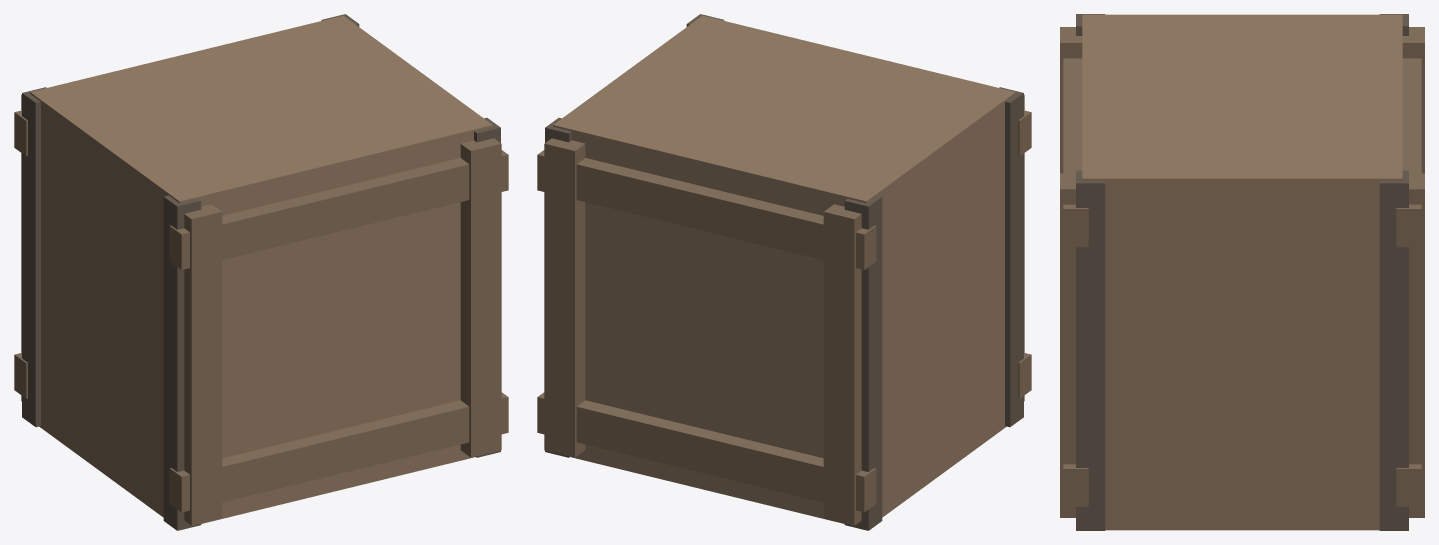
The model's file is wooden_crate.glb.
The picture shows the model from 3 angles, left to right: view 1: azimuth 30°, elevation 25°; view 2: azimuth 150°, elevation 25°; view 3: azimuth 270°, elevation 25°; orthographic projection. The views are drawn at different scales.
Visible parts, largest first — view 1: body, front_upright_1_0.41, front_rail_1_0.8, front_rail_1_0.12, front_upright_1_-0.41, corner_-0.44_0.36, corner_-0.44_-0.36; view 2: body, front_upright_-1_0.41, front_rail_-1_0.8, front_rail_-1_0.12, front_upright_-1_-0.41, corner_-0.44_-0.36, corner_-0.44_0.36; view 3: body, corner_0.44_-0.36, corner_0.44_0.36, front_upright_-1_0.41, front_upright_1_0.41, front_rail_-1_0.8, front_rail_1_0.8, front_upright_-1_-0.41, front_upright_1_-0.41, front_rail_-1_0.12, front_rail_1_0.12.
Boxes of the visible parts, left/top/right/bottom form: body: left=30, top=15, right=492, bottom=523; front_upright_1_0.41: left=460, top=138, right=501, bottom=457; front_rail_1_0.8: left=169, top=150, right=508, bottom=269; front_rail_1_0.12: left=169, top=392, right=508, bottom=512; front_upright_1_-0.41: left=184, top=204, right=222, bottom=525; corner_-0.44_0.36: left=163, top=195, right=201, bottom=530; corner_-0.44_-0.36: left=22, top=87, right=46, bottom=427; body: left=553, top=15, right=1015, bottom=523; front_upright_-1_0.41: left=544, top=138, right=585, bottom=457; front_rail_-1_0.8: left=537, top=150, right=876, bottom=269; front_rail_-1_0.12: left=537, top=392, right=876, bottom=512; front_upright_-1_-0.41: left=823, top=204, right=861, bottom=525; corner_-0.44_-0.36: left=844, top=195, right=882, bottom=530; corner_-0.44_0.36: left=999, top=87, right=1023, bottom=427; body: left=1082, top=14, right=1402, bottom=530; corner_0.44_-0.36: left=1379, top=170, right=1408, bottom=530; corner_0.44_0.36: left=1076, top=170, right=1105, bottom=530; front_upright_-1_0.41: left=1409, top=173, right=1424, bottom=517; front_upright_1_0.41: left=1060, top=173, right=1075, bottom=517; front_rail_-1_0.8: left=1396, top=58, right=1421, bottom=247; front_rail_1_0.8: left=1063, top=58, right=1088, bottom=247; front_upright_-1_-0.41: left=1402, top=27, right=1424, bottom=173; front_upright_1_-0.41: left=1060, top=27, right=1082, bottom=173; front_rail_-1_0.12: left=1396, top=464, right=1421, bottom=506; front_rail_1_0.12: left=1063, top=464, right=1088, bottom=506.
Size of the model in its own units: 0.96 by 0.92 by 0.865.
